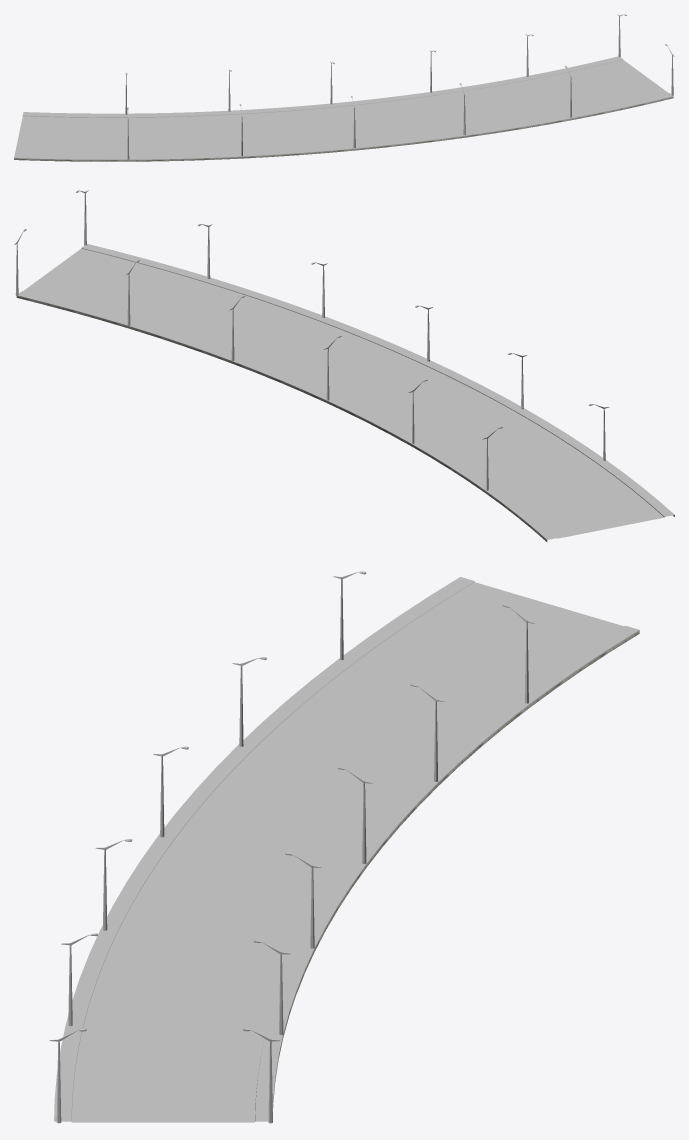
The model's file is Big_Road_35.FBX.
3 renders of one model, top to bottom at view 1: azimuth 30°, elevation 25°; view 2: azimuth 150°, elevation 25°; view 3: azimuth 270°, elevation 25°, orthographic. The views are drawn at different scales.
Visible parts, largest first — view 1: Big_Road_35, city_light006; view 2: Big_Road_35, city_light006; view 3: Big_Road_35, city_light006.
Boxes of the visible parts, <box> form: Big_Road_35: <box>14,56,673,161</box>; city_light006: <box>125,14,674,159</box>; Big_Road_35: <box>16,244,674,541</box>; city_light006: <box>14,190,609,490</box>; Big_Road_35: <box>54,577,639,1122</box>; city_light006: <box>49,571,535,1123</box>.
Size of the model in its own units: 13389 by 1104 by 6120.
